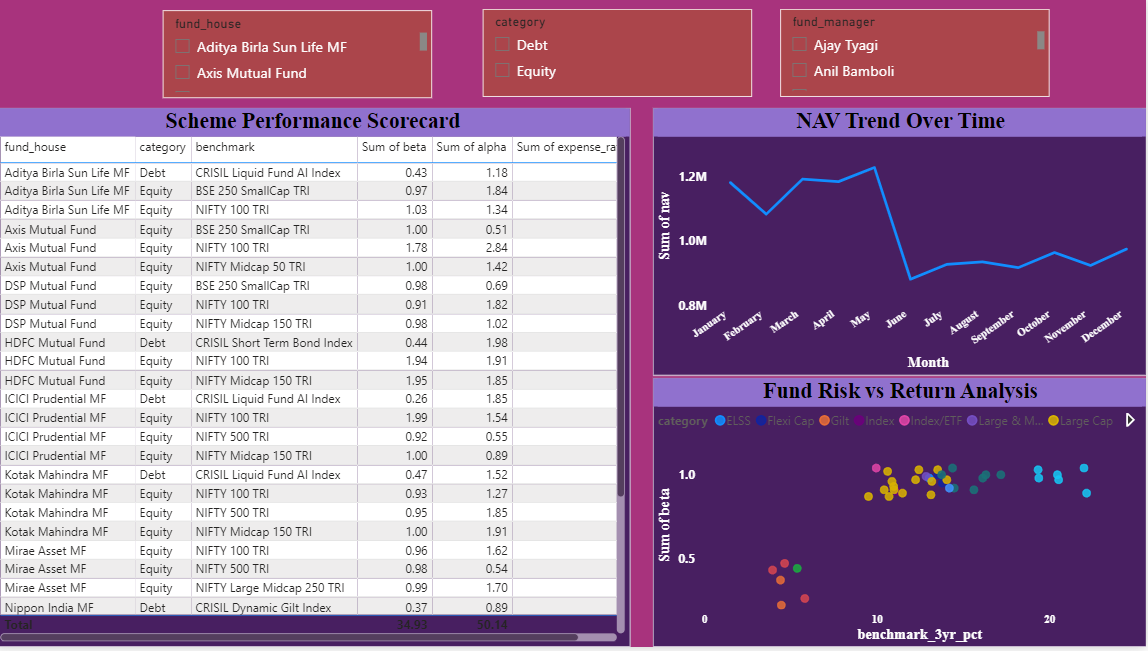

The page's visual inventory and layout, read from the dashboard file:
{"tool":"powerbi","page":{"name":"Fund Performance","canvas":[1280,720],"ordinal":1},"visuals":[{"type":"scatterChart","title":"Fund Risk vs Return Analysis","fields":{"X":["07_scheme_performance.benchmark_3yr_pct"],"Y":["Sum(07_scheme_performance.beta)"],"Series":["07_scheme_performance.category"]},"box":[731.4,421.3,548.9,299.1],"z":0},{"type":"lineChart","title":"NAV Trend Over Time","fields":{"Category":["02_nav_history.date.Variation.Date Hierarchy.Month"],"Y":["Sum(02_nav_history.nav)"]},"box":[731.4,120.8,548.9,297.8],"z":1},{"type":"tableEx","title":"Scheme Performance Scorecard","fields":{"Values":["01_fund_master.fund_house","01_fund_master.category","01_fund_master.benchmark","Sum(07_scheme_performance.beta)","Sum(07_scheme_performance.alpha)","Sum(01_fund_master.expense_ratio_pct)"]},"box":[0,121,707,599],"z":2},{"type":"slicer","fields":{"Values":["01_fund_master.fund_house"]},"box":[188,12.3,299.1,97.4],"z":4},{"type":"slicer","fields":{"Values":["01_fund_master.category"]},"box":[543.4,11,299.1,97.4],"z":5},{"type":"slicer","fields":{"Values":["01_fund_master.fund_manager"]},"box":[874.1,11,299.1,97.4],"z":6}]}

Visuals, with their boxes in screenshot pixels (x1, y1, x2, y2), scaled from the page's 1280x720 canvas onto the 1148x651 screenshot:
"Fund Risk vs Return Analysis" scatterChart: <box>656,381,1147,650</box>
"NAV Trend Over Time" lineChart: <box>656,109,1147,378</box>
"Scheme Performance Scorecard" tableEx: <box>0,109,634,650</box>
slicer - 01_fund_master.fund_house: <box>169,11,437,99</box>
slicer - 01_fund_master.category: <box>487,10,756,98</box>
slicer - 01_fund_master.fund_manager: <box>784,10,1052,98</box>
